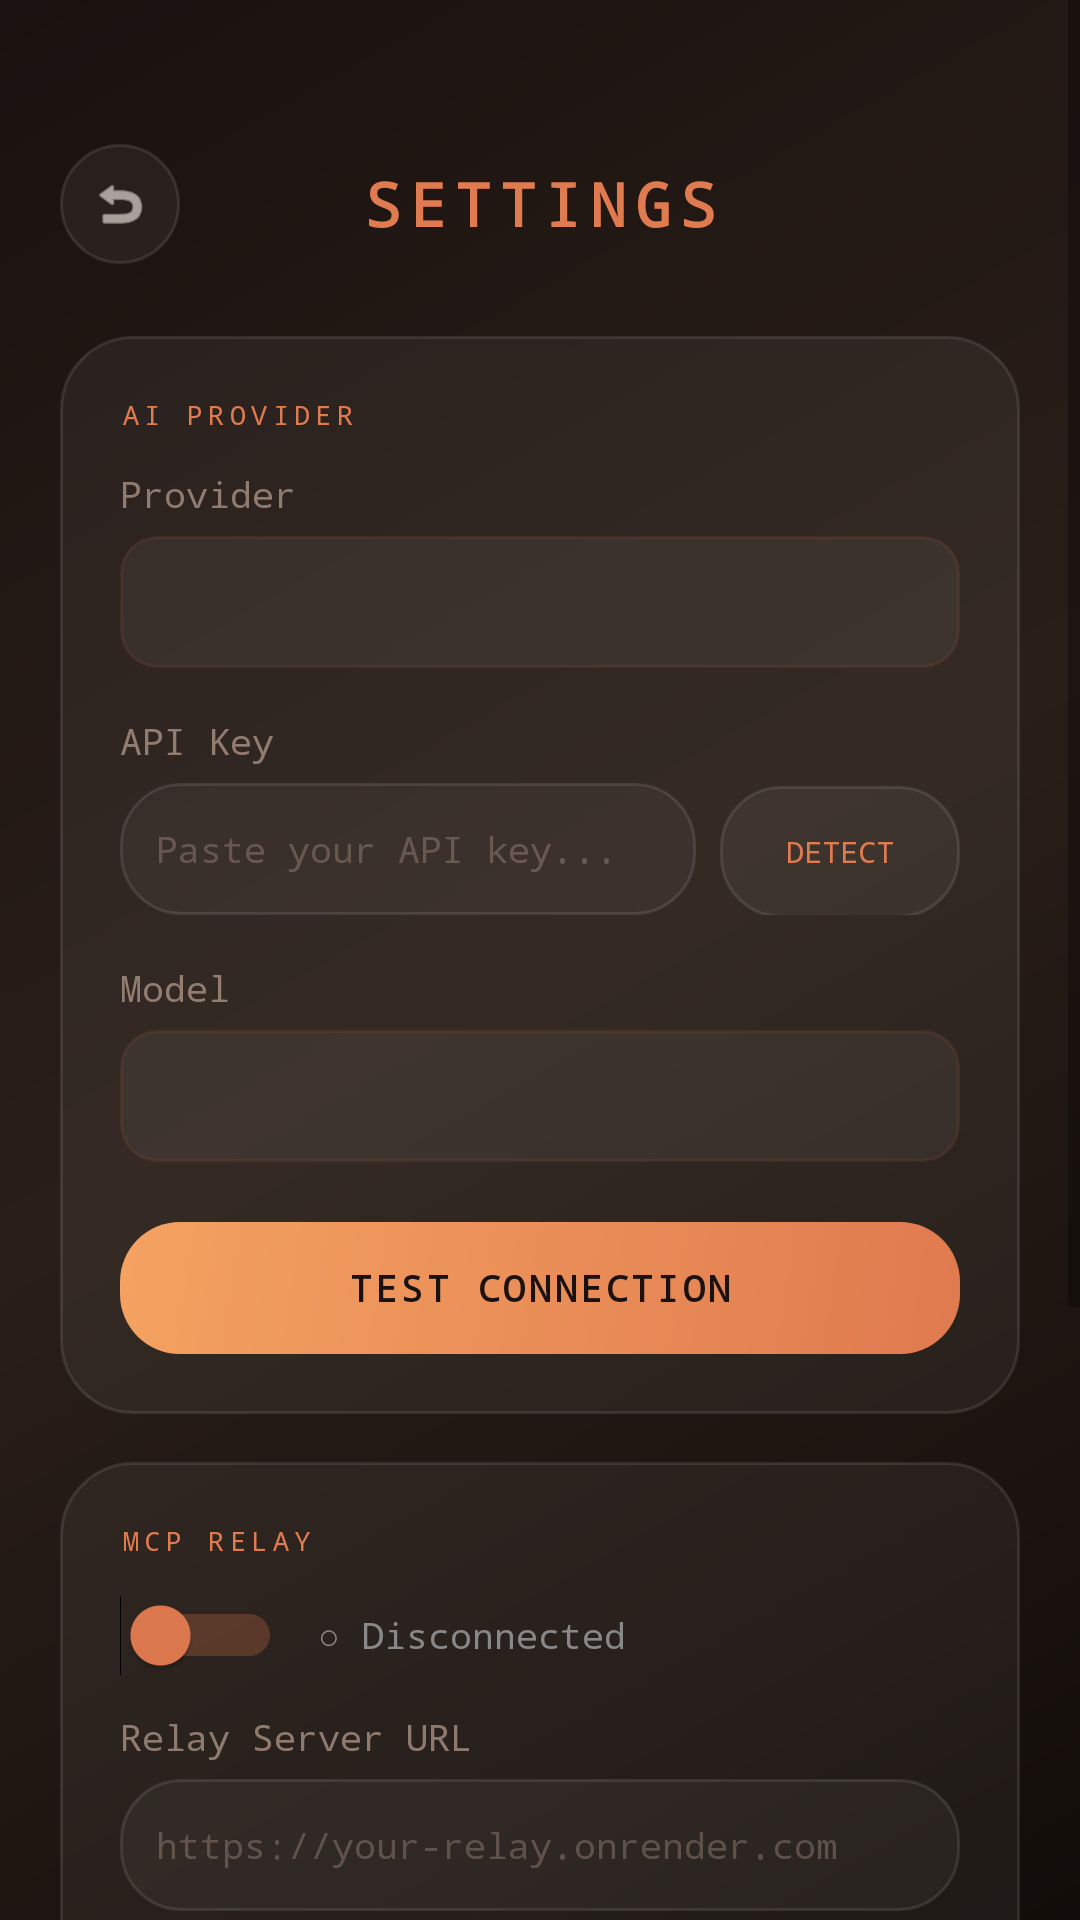

Icon click points for this 1080 × 1920 phone screenshot, format (x=x, y=y):
Back: (x=120, y=204)
